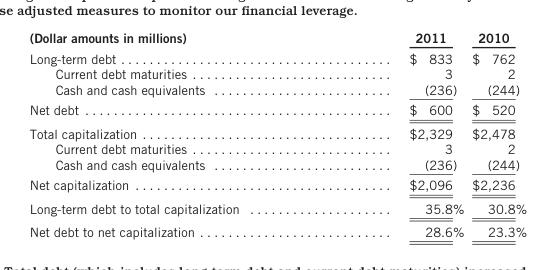table: (28, 29, 526, 238)
table column: (28, 29, 323, 238), (323, 29, 467, 238), (467, 29, 526, 238)
table column header: (28, 29, 526, 47)
table row: (28, 196, 526, 219), (28, 99, 526, 121), (28, 174, 526, 196), (28, 121, 526, 140), (28, 219, 526, 238), (28, 29, 526, 47), (28, 47, 526, 65), (28, 81, 526, 99), (28, 156, 526, 174), (28, 65, 526, 81), (28, 140, 526, 156)
